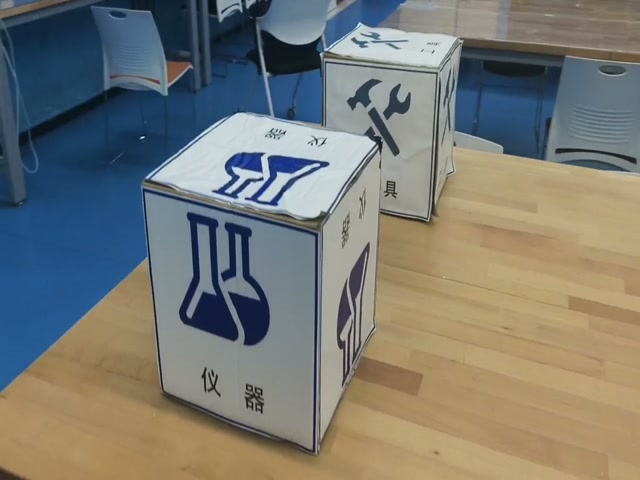Cube_ins: (145, 113, 380, 223)
Cube_tool: (323, 24, 461, 75)
